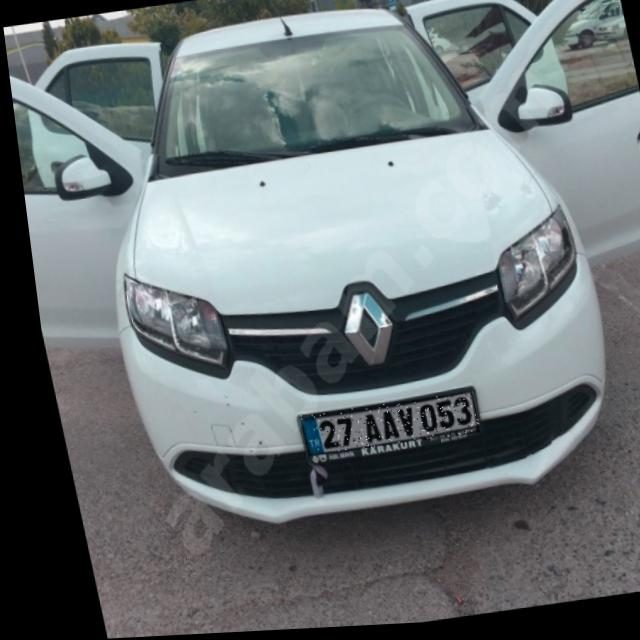license_plate: (286, 395, 469, 459)
